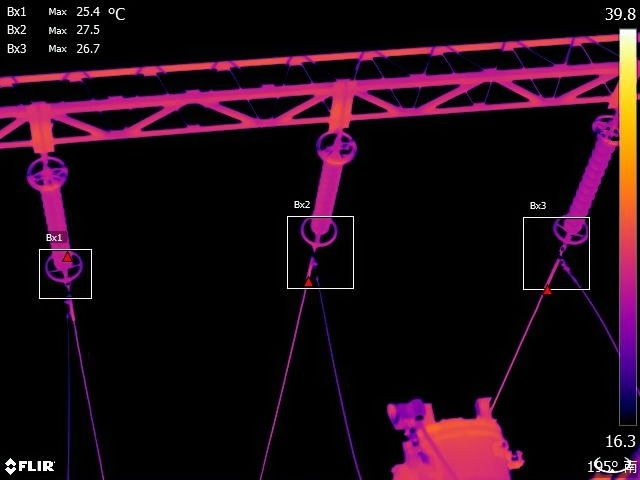clamp: (548, 248, 575, 276), (302, 247, 325, 279), (56, 289, 81, 317)
insulator: (550, 110, 620, 249), (25, 153, 85, 284), (295, 118, 354, 250)
